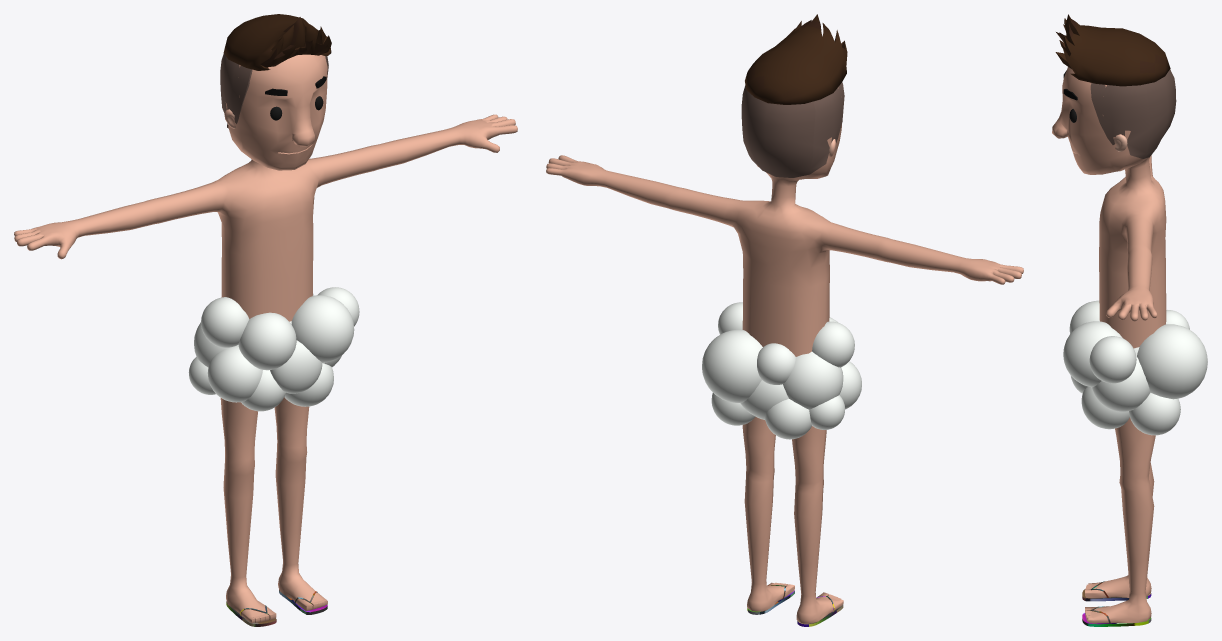
The model's file is tam.fbx.
The picture shows the model from 3 angles, left to right: view 1: azimuth 30°, elevation 25°; view 2: azimuth 150°, elevation 25°; view 3: azimuth 270°, elevation 25°; orthographic projection. The views are drawn at different scales.
Visible parts, largest first — view 1: BeachBoy; view 2: BeachBoy; view 3: BeachBoy.
Boxes of the visible parts, <box> form: BeachBoy: <box>14,14,517,626</box>; BeachBoy: <box>546,14,1023,626</box>; BeachBoy: <box>1052,14,1207,626</box>.
Size of the model in its own units: 399 by 466 by 111.
